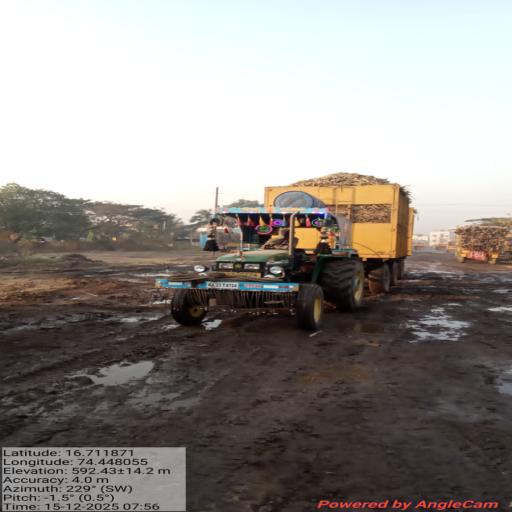number_plate: (201, 275, 259, 299)
